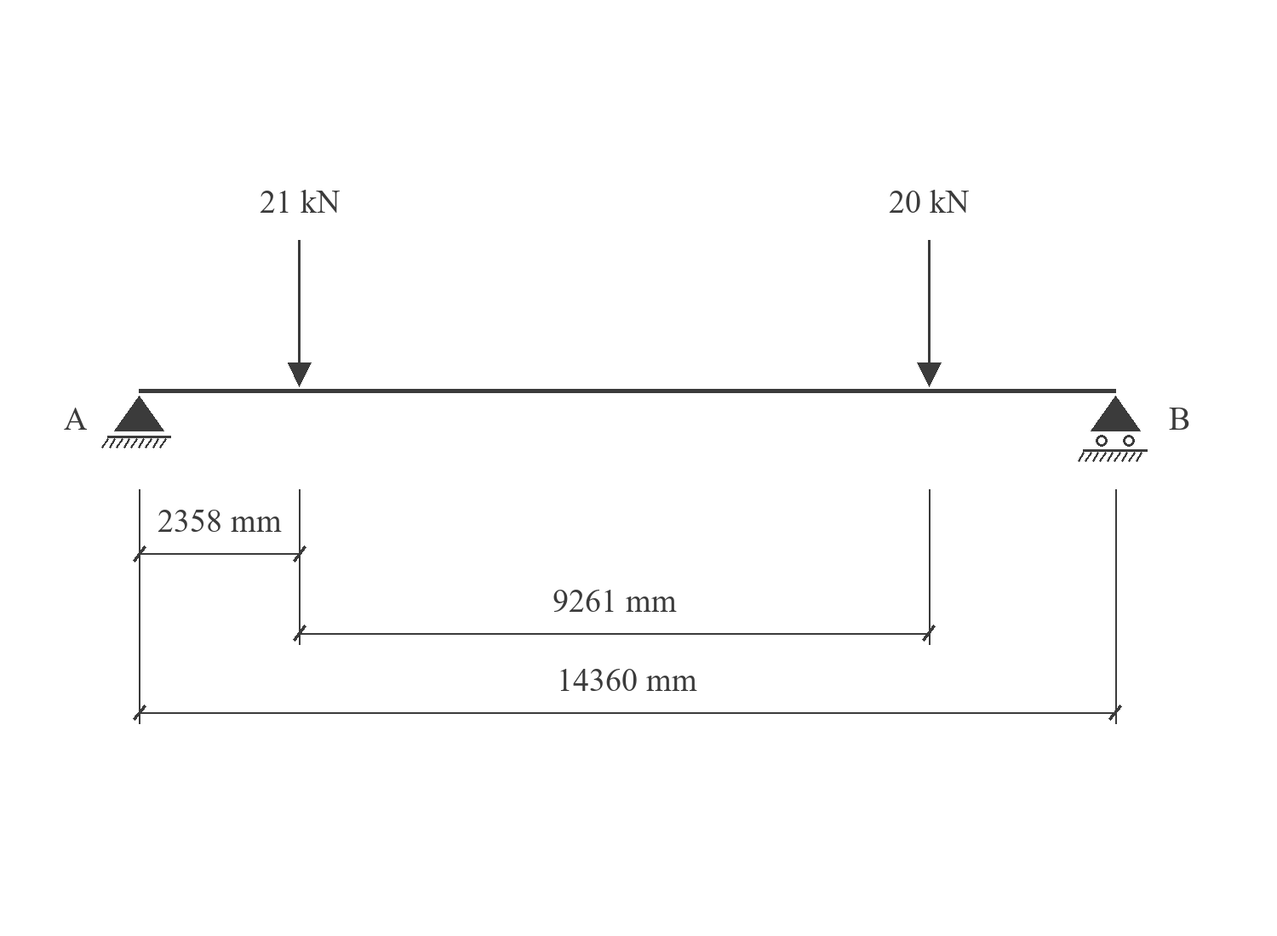pin_support: (101, 396, 171, 448)
point_load: (917, 240, 942, 387), (288, 240, 312, 387)
roller_support: (1078, 396, 1148, 462)
